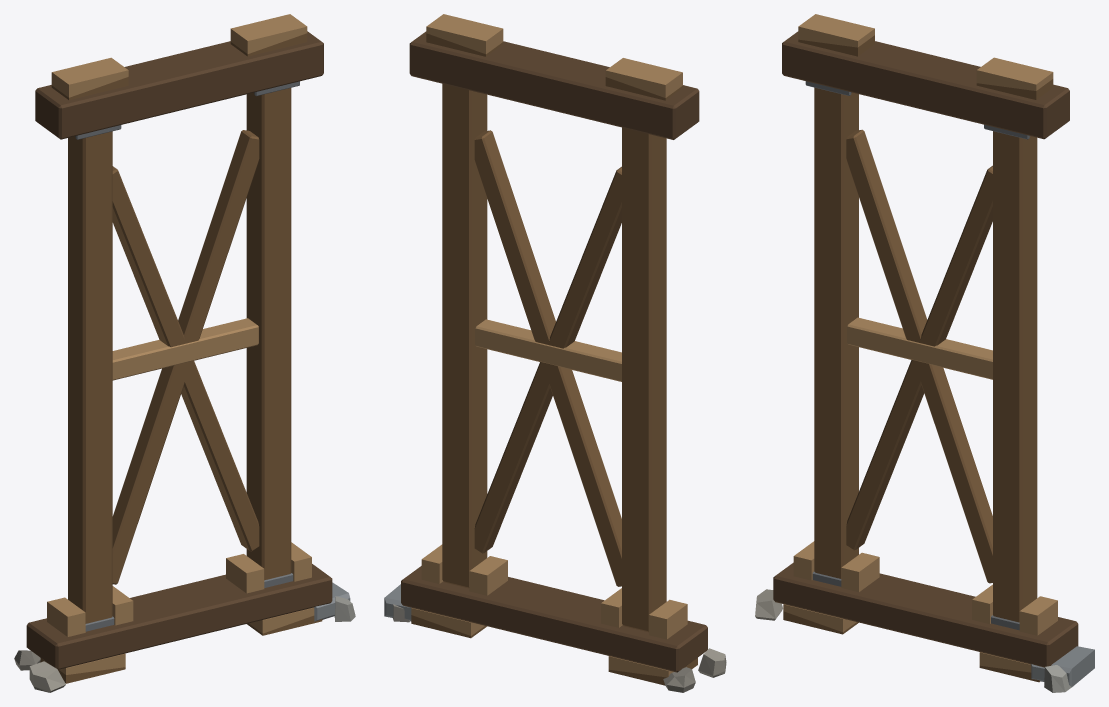
The model's file is SM_LPD_Struct_ShoringProps_01.fbx.
3 renders of one model, left to right at view 1: azimuth 30°, elevation 25°; view 2: azimuth 150°, elevation 25°; view 3: azimuth 330°, elevation 25°, orthographic.
Parts seen in each view (by area): view 1: SM_LPD_Struct_ShoringProps_01; view 2: SM_LPD_Struct_ShoringProps_01; view 3: SM_LPD_Struct_ShoringProps_01.
Part boxes in pixels (x1=…): SM_LPD_Struct_ShoringProps_01: x1=14, y1=14, x2=355, y2=692; SM_LPD_Struct_ShoringProps_01: x1=384, y1=14, x2=726, y2=692; SM_LPD_Struct_ShoringProps_01: x1=755, y1=14, x2=1094, y2=692.
Size of the model in its own units: 2.12 by 3.8 by 0.4836.
